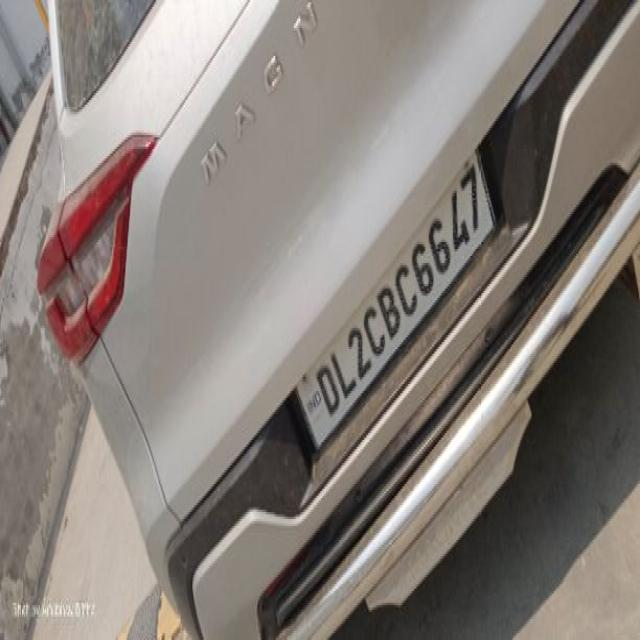license_plate: (32, 0, 639, 638), (291, 142, 499, 454)
